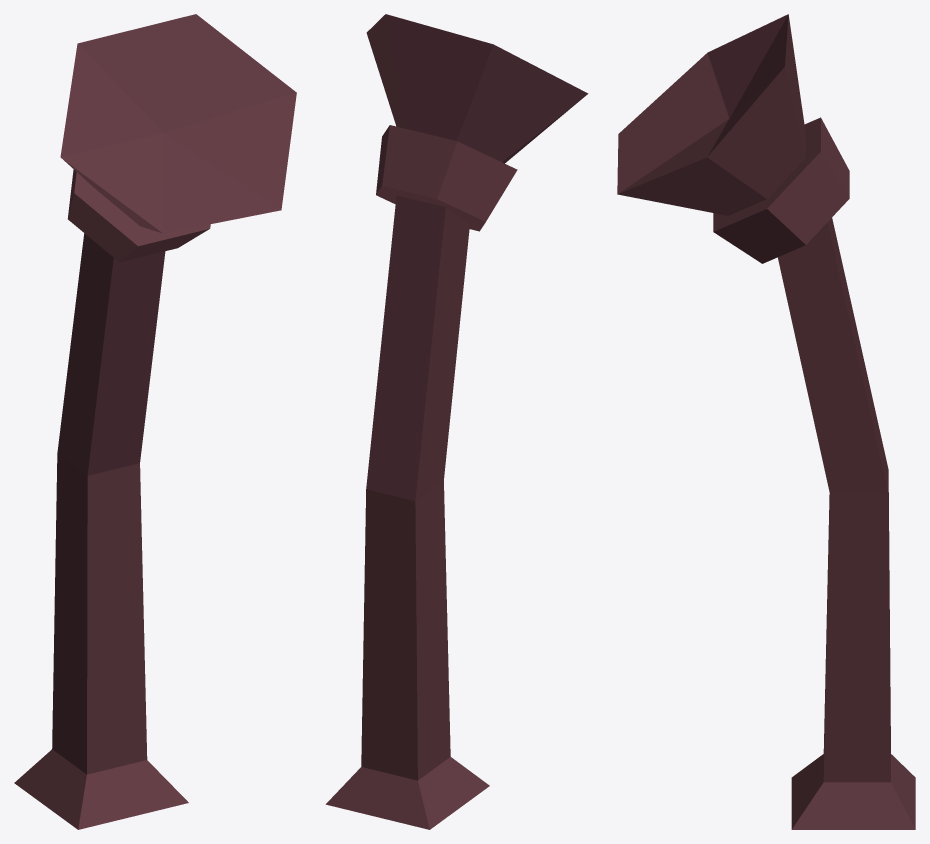
File: dish-brush.fbx
The picture shows the model from 3 angles, left to right: view 1: azimuth 30°, elevation 25°; view 2: azimuth 150°, elevation 25°; view 3: azimuth 270°, elevation 25°; orthographic projection. The views are drawn at different scales.
Parts seen in each view (by area): view 1: dish-brush; view 2: dish-brush; view 3: dish-brush.
Part boxes in pixels (left/top/right/bottom): dish-brush: left=14, top=14, right=296, bottom=829; dish-brush: left=325, top=14, right=588, bottom=829; dish-brush: left=617, top=14, right=915, bottom=829.
Size of the model in its own units: 0.1069 by 0.3418 by 0.1208.
